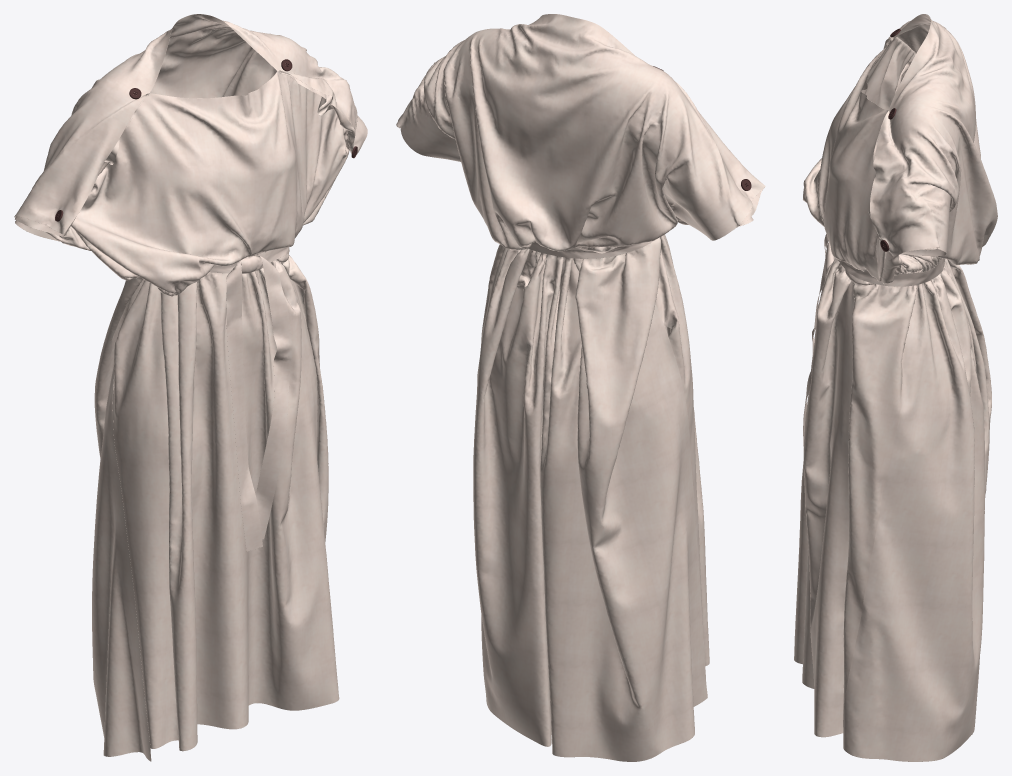
The model's file is asset.gltf.
3 renders of one model, left to right at view 1: azimuth 30°, elevation 25°; view 2: azimuth 150°, elevation 25°; view 3: azimuth 270°, elevation 25°, orthographic.
Parts seen in each view (by area): view 1: PARTS4, PARTS5, PARTS7, PARTS8; view 2: PARTS5, PARTS4, PARTS9; view 3: PARTS5, PARTS4, PARTS9, PARTS7.
Part boxes in pixels (x1,y1,x2,y2): PARTS4: [15, 71, 355, 751]; PARTS5: [14, 14, 367, 761]; PARTS7: [253, 255, 292, 539]; PARTS8: [226, 260, 262, 551]; PARTS5: [396, 14, 765, 761]; PARTS4: [483, 187, 764, 665]; PARTS9: [529, 240, 655, 258]; PARTS5: [843, 14, 997, 761]; PARTS4: [794, 37, 936, 737]; PARTS9: [838, 258, 945, 286]; PARTS7: [803, 242, 834, 447].
Size of the model in its own units: 0.6609 by 1.3 by 0.3346.
Materials: 2 (2 with a texture image).
